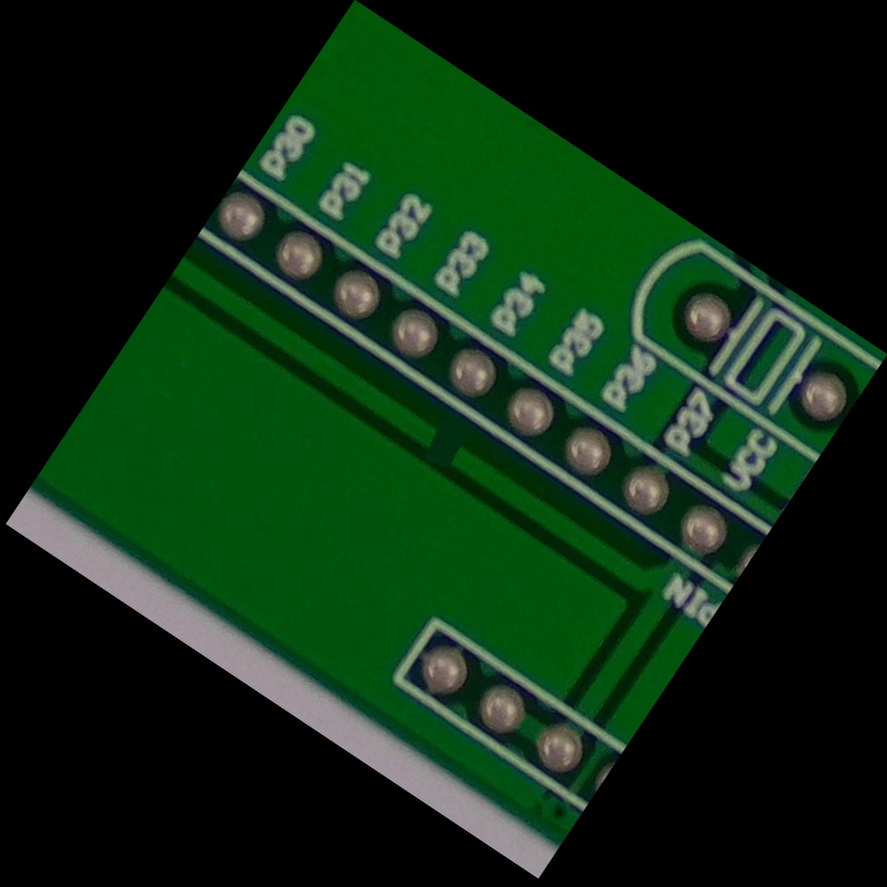open_circuit: (409, 410, 478, 478)
